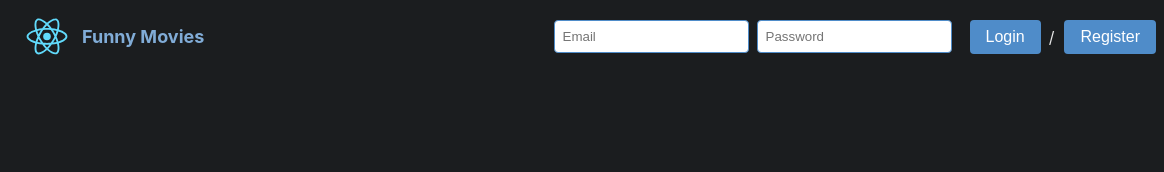
Scenario: Header › Should login successfully when the login API returns OK
The image size is (1164, 172).
Type "test@example.com" into the field with placeholder "Email".
click(651, 37); type("test@example.com")  # box left=554, top=20, right=748, bottom=53
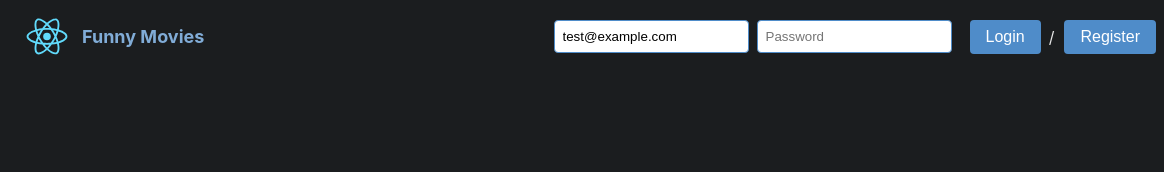
Type "password123" into the password field with placeholder "Password".
click(854, 37); type("password123")  # box left=756, top=20, right=952, bottom=53
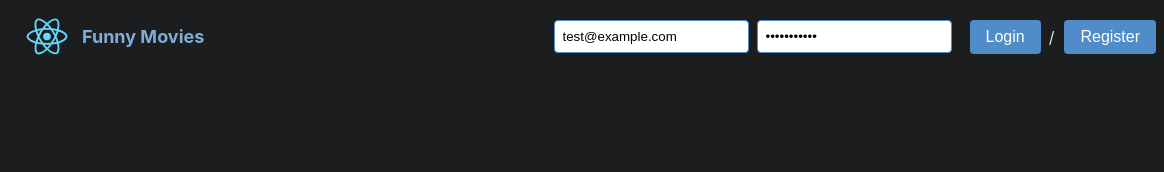
Click the button "Login".
click(1005, 37)  # box left=970, top=20, right=1041, bottom=54
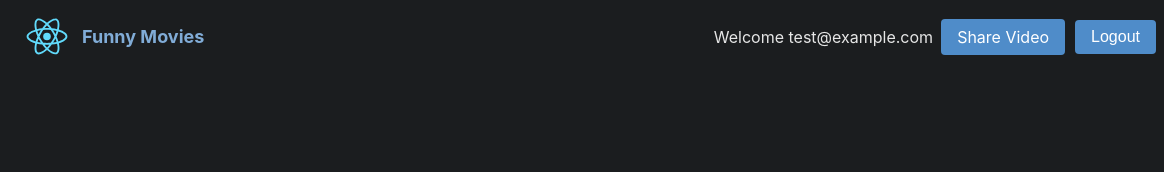
Check: the text "Welcome test@example.com" is shown, box left=714, top=27, right=933, bottom=47
Check: the link "Share Video" is shown, box left=941, top=19, right=1065, bottom=55
Check: the button "Logout" is shown, box left=1075, top=20, right=1156, bottom=54
